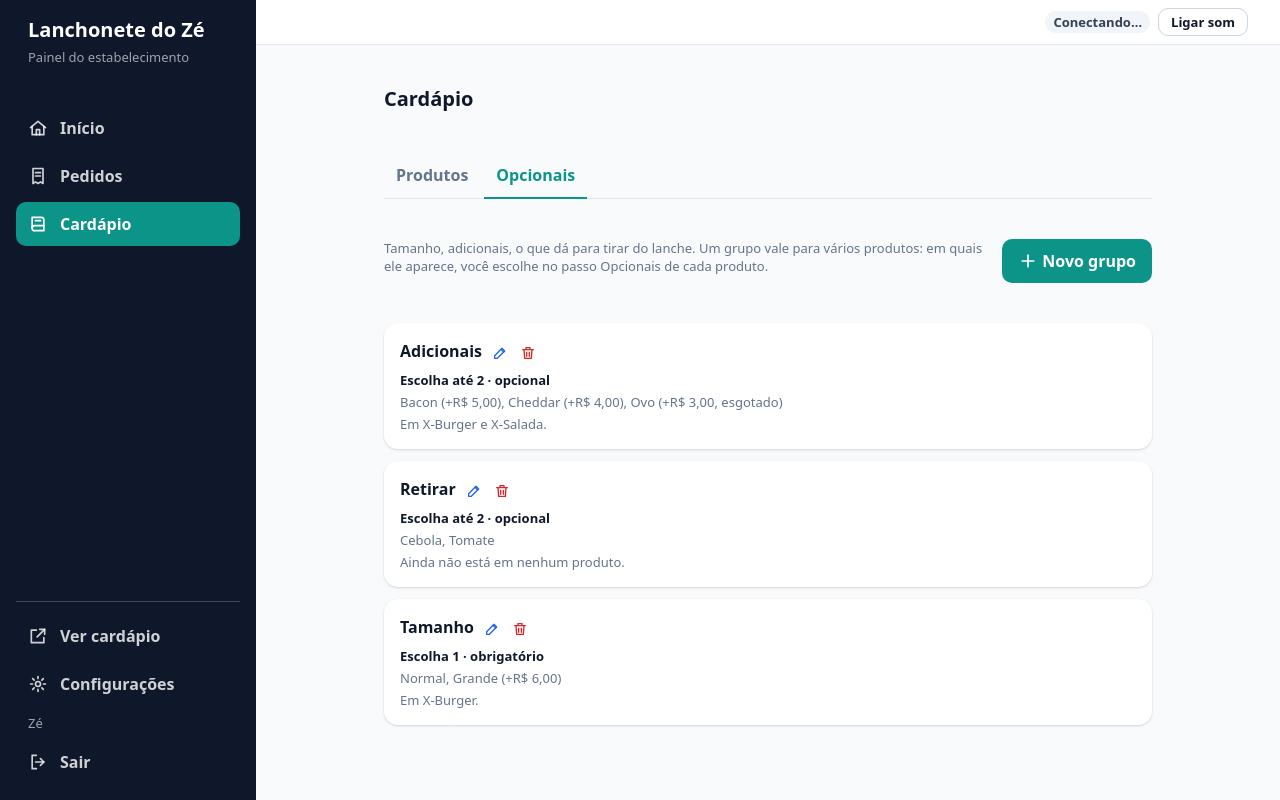
Test: a janela do grupo: editar › avisa em quais produtos ele está, antes de a pessoa mudar
Expected: the heading "Adicionais" is shown, [400, 339, 482, 363]
Step 1. Click the button named "Editar o grupo Adicionais" → click(500, 353), box [486, 339, 514, 367]
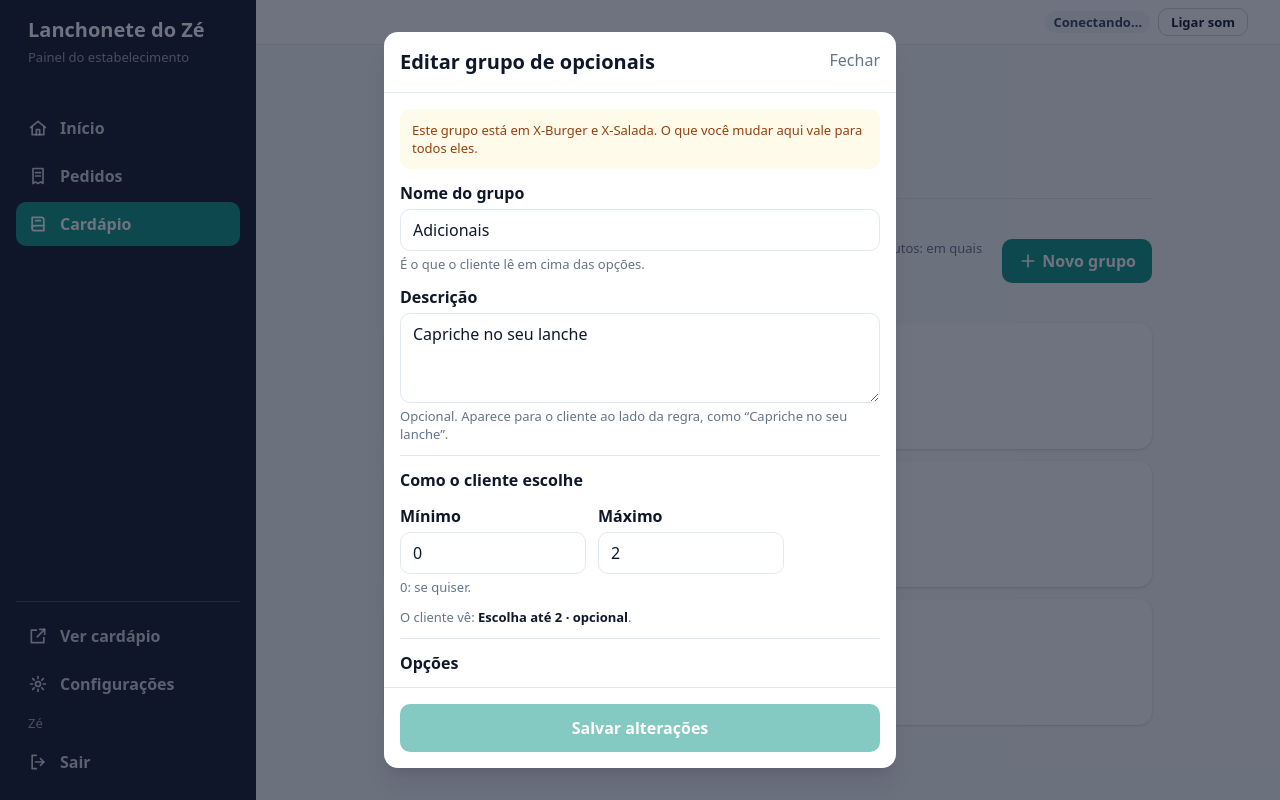
Expected: the text "Este grupo está em X-Burger e X-Salada. O que você mudar aqui vale para todos eles." is shown, [400, 109, 880, 169]
Expected: the field labelled "Nome do grupo" holds "Adicionais", [400, 209, 880, 251]
Expected: the button "Salvar alterações" is disabled, [400, 704, 880, 752]
